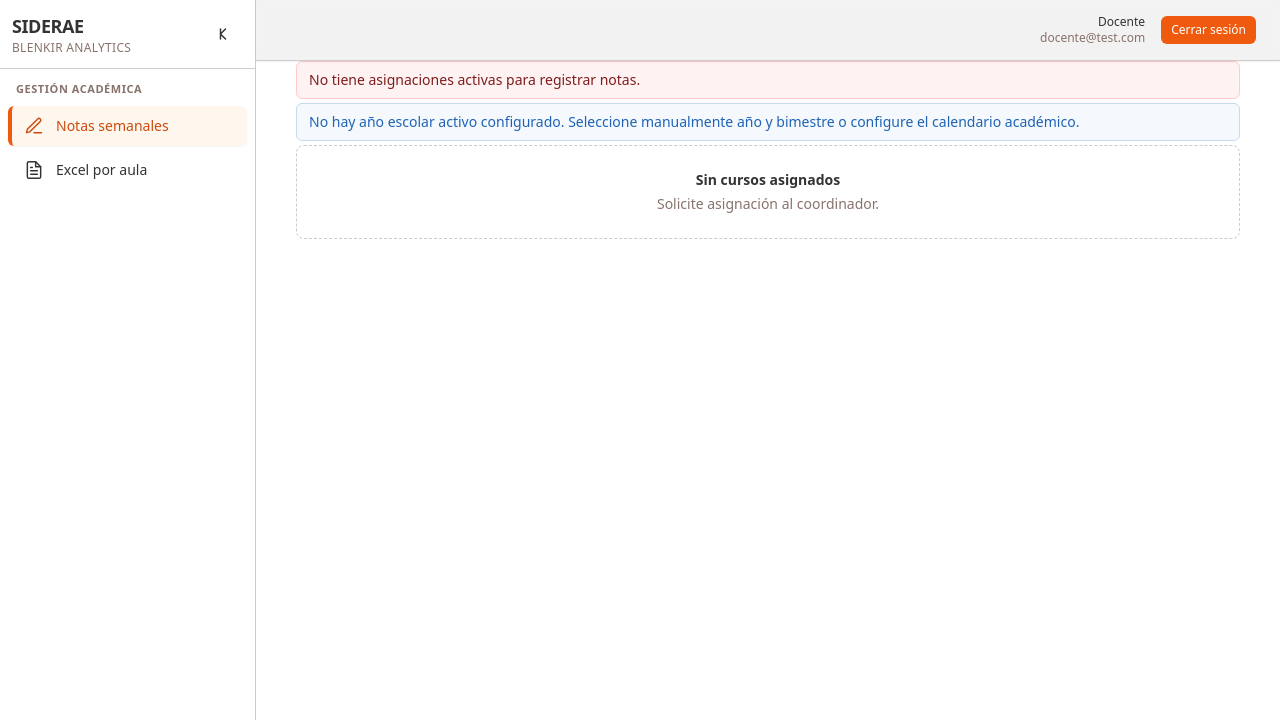
it: Flujo de importación/exportación de Excel › permite navegar al módulo Excel por aula y ver el botón de descarga
The image size is (1280, 720).
expect the element with test id "workspace-main" is shown: met, box [296, 61, 1240, 239]
What coordinates should you click on to do the following:
click the menu item with test id "nav-curricular_excel_aula"
I would click on:
 (128, 170)
Its box is [8, 150, 247, 190].
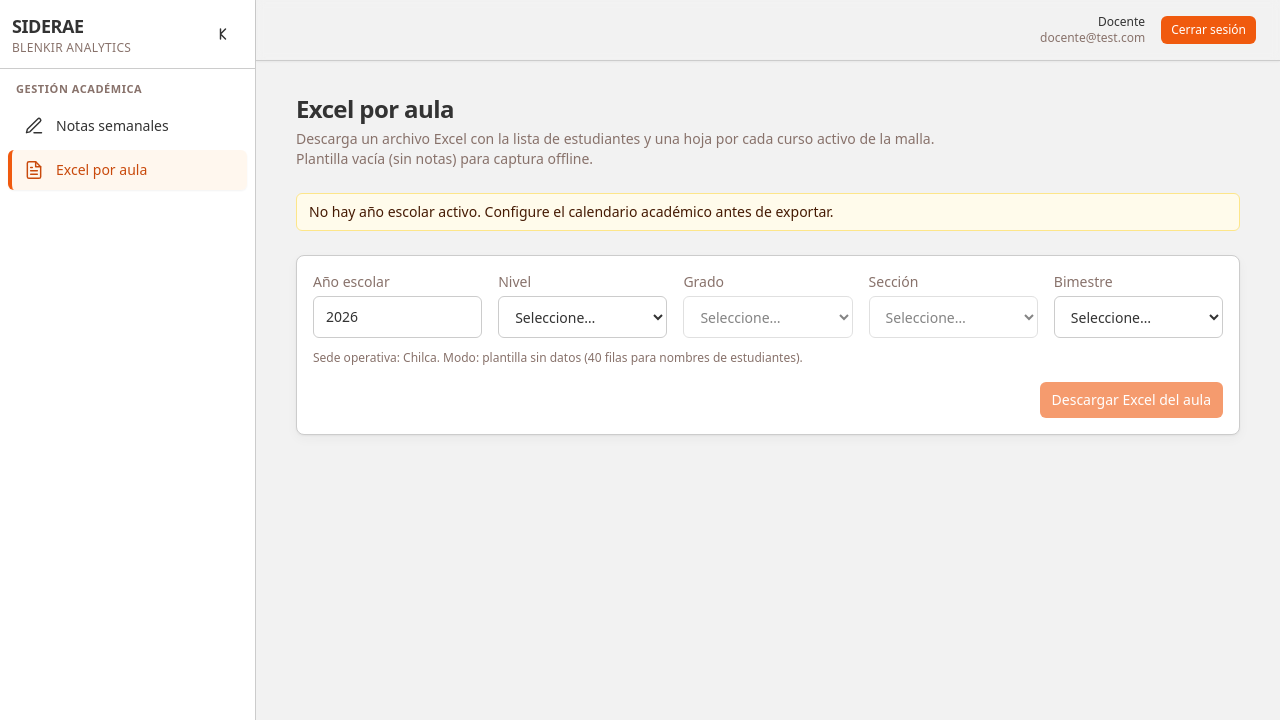
expect the button with test id "excel-aula-descargar" is shown: met, box [1040, 382, 1223, 418]
expect the number of dropdowns is at least 1: met
